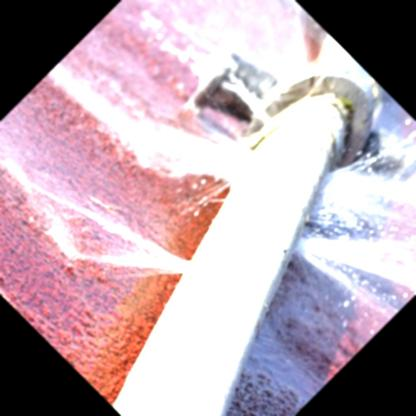burst: (295, 154, 353, 269), (152, 244, 200, 296)
